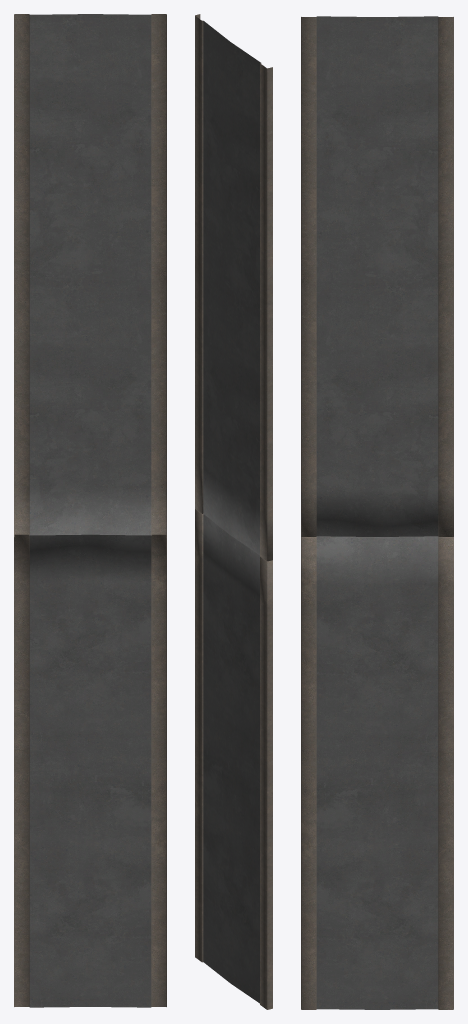
The model's file is cP_Pathway01_v02_Straight.dae.
3 renders of one model, left to right at view 1: azimuth 90°, elevation 25°; view 2: azimuth 210°, elevation 25°; view 3: azimuth 270°, elevation 25°, orthographic. The views are drawn at different scales.
Visible parts, largest first — view 1: cP_Pathway01_v02_Straight.001; view 2: cP_Pathway01_v02_Straight.001; view 3: cP_Pathway01_v02_Straight.001.
Part boxes in pixels (x1,y1,x2,y2): cP_Pathway01_v02_Straight.001: (14,14,166,1007); cP_Pathway01_v02_Straight.001: (195,14,272,1009); cP_Pathway01_v02_Straight.001: (301,16,453,1009).
Bounding box in the file's own units: 0.0939 × 1.95 × 14.
